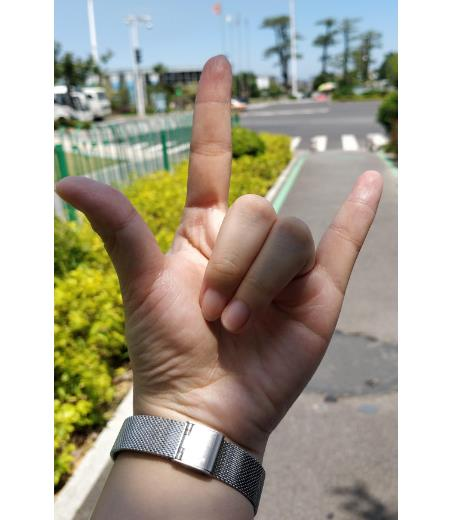back: (53, 52, 388, 403)
